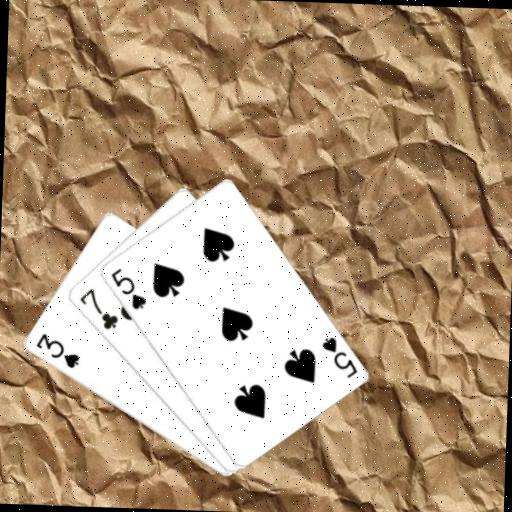3S: (31, 329, 81, 370)
5S: (106, 265, 149, 312), (317, 332, 360, 379)
7C: (74, 284, 121, 332)
